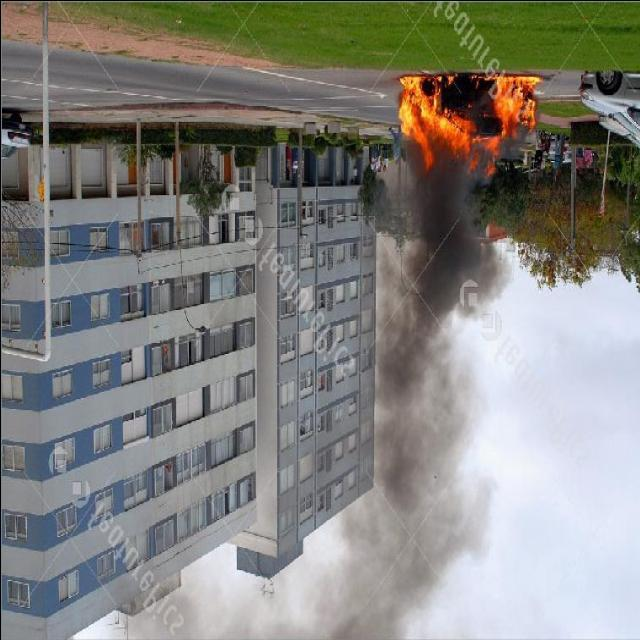Fire: (382, 64, 548, 178)
